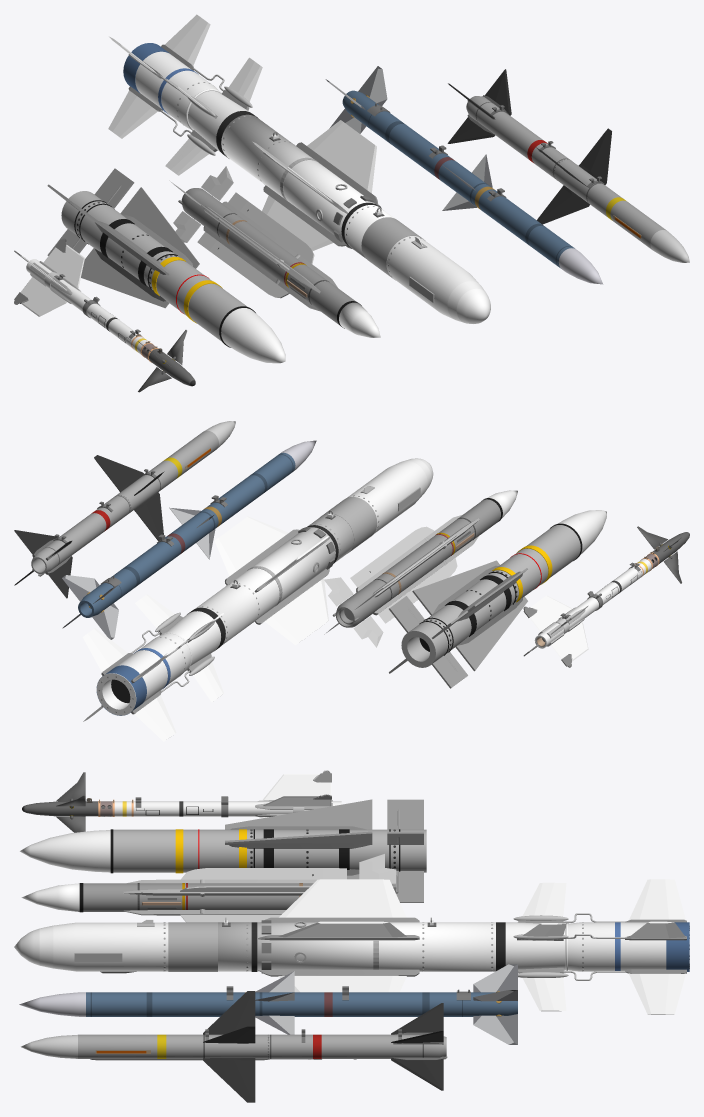
The picture shows the model from 3 angles, top to bottom: view 1: azimuth 30°, elevation 25°; view 2: azimuth 150°, elevation 25°; view 3: azimuth 270°, elevation 25°; orthographic projection. The views are drawn at different scales.
Parts seen in each view (by area): view 1: Cylinder.060_93, Cone.001_14, Cylinder.027_55, Cone_2, Cone.004_79, Cylinder.036_65, Plane.008_57, Plane.021_118, Cube.013_4, Cube.020_60, Cylinder.047_106, Cone.005_129 (+18 smaller); view 2: Cylinder.027_55, Cylinder.060_93, Cone.001_14, Cone_2, Cylinder.036_65, Cylinder.047_106, Plane.008_57, Plane.015_124, Plane.021_118, Cone.004_79, Cube.013_4, Cube.020_60 (+17 smaller); view 3: Cylinder.060_93, Cone.001_14, Cone_2, Cylinder.027_55, Cone.004_79, Cube.013_4, Plane.014_125, Cylinder.036_65, Cylinder.047_106, Plane.008_57, Cube.020_60, Plane.017_122 (+22 smaller).
Boxes of the visible parts, <box> form: Cylinder.060_93: <box>221,114,394,258</box>; Cone.001_14: <box>342,90,603,284</box>; Cylinder.027_55: <box>61,191,247,341</box>; Cone_2: <box>466,96,689,262</box>; Cone.004_79: <box>386,236,490,323</box>; Cylinder.036_65: <box>181,188,355,324</box>; Plane.008_57: <box>73,187,199,308</box>; Plane.021_118: <box>229,57,376,193</box>; Cube.013_4: <box>447,69,611,224</box>; Cube.020_60: <box>197,192,314,298</box>; Cylinder.047_106: <box>135,51,218,129</box>; Cone.005_129: <box>221,308,285,363</box>; Cylinder.027_55: <box>401,525,580,667</box>; Cylinder.060_93: <box>195,514,353,644</box>; Cone.001_14: <box>78,440,316,617</box>; Cone_2: <box>31,421,235,573</box>; Cylinder.036_65: <box>335,499,500,627</box>; Cylinder.047_106: <box>96,633,191,715</box>; Plane.008_57: <box>412,560,527,671</box>; Plane.015_124: <box>193,578,328,702</box>; Plane.021_118: <box>135,516,288,628</box>; Cone.004_79: <box>347,458,433,533</box>; Cube.013_4: <box>14,455,164,598</box>; Cube.020_60: <box>350,526,457,623</box>; Cylinder.060_93: <box>218,922,495,971</box>; Cone.001_14: <box>19,992,517,1016</box>; Cone_2: <box>21,1034,446,1058</box>; Cylinder.027_55: <box>113,829,426,872</box>; Cone.004_79: <box>14,922,168,971</box>; Cube.013_4: <box>203,991,443,1102</box>; Plane.014_125: <box>279,879,566,917</box>; Cylinder.036_65: <box>83,883,395,911</box>; Cylinder.047_106: <box>568,922,666,971</box>; Plane.008_57: <box>225,799,372,879</box>; Cube.020_60: <box>180,868,346,922</box>; Plane.017_122: <box>278,975,566,1011</box>.
Size of the model in its own units: 51.03 by 8.23 by 54.09.
100 materials, 55 textured.
